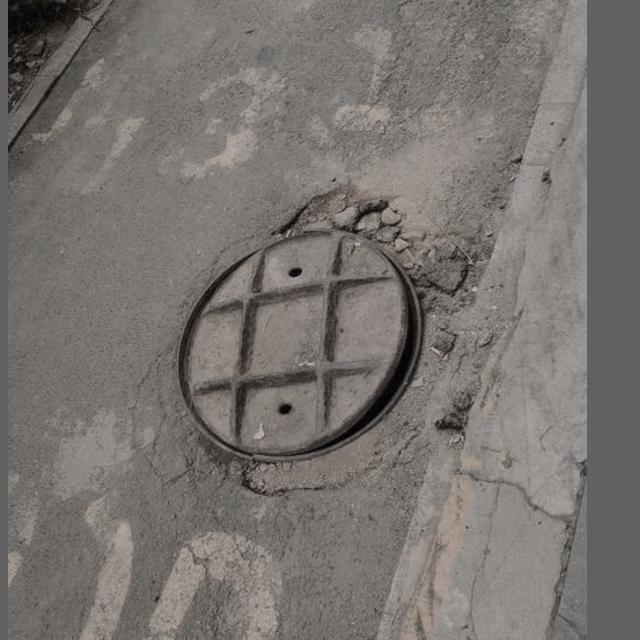circle: (153, 156, 523, 533)
